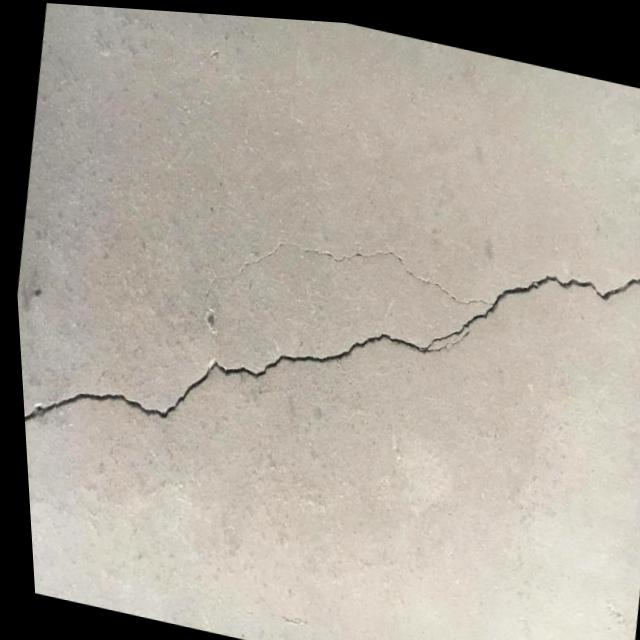Crack: (278, 175, 640, 442), (13, 289, 296, 497)
